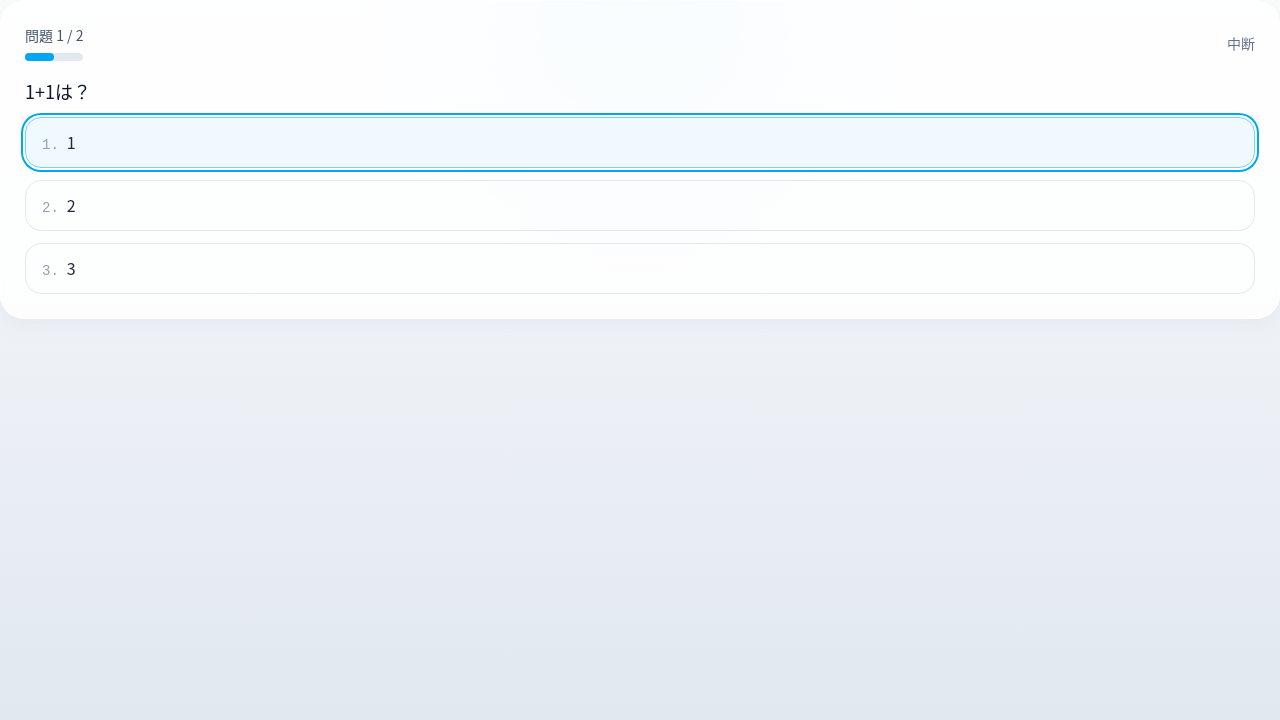
Test: QuizPage › 中断機能 › 中断ボタンをクリックすると確認ダイアログが表示される
The width and height of the screenshot is (1280, 720).
What coordinates should you click on to do the following:
click the button "中断"
I would click on:
 (1241, 43)
Its box is x1=1227 y1=33 x2=1255 y2=53.
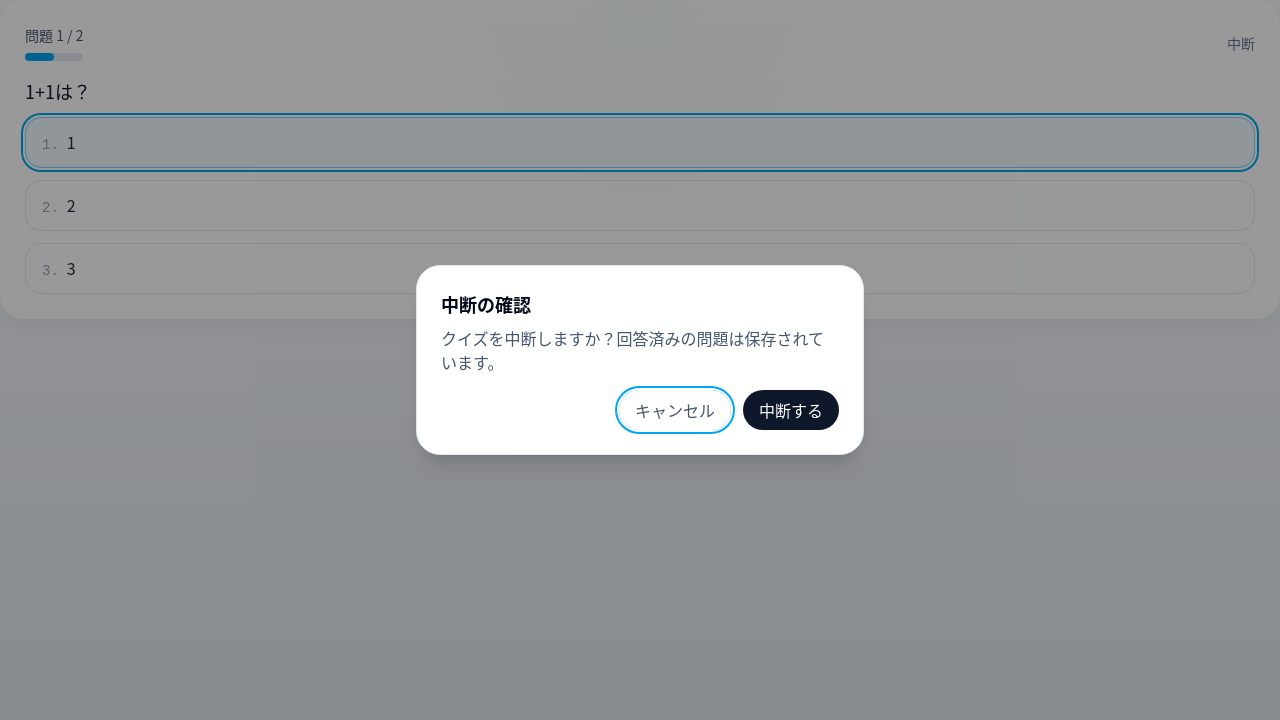
Expected: the text "クイズを中断しますか？回答済みの問題は保存されています。" is shown, x1=441 y1=326 x2=839 y2=374
